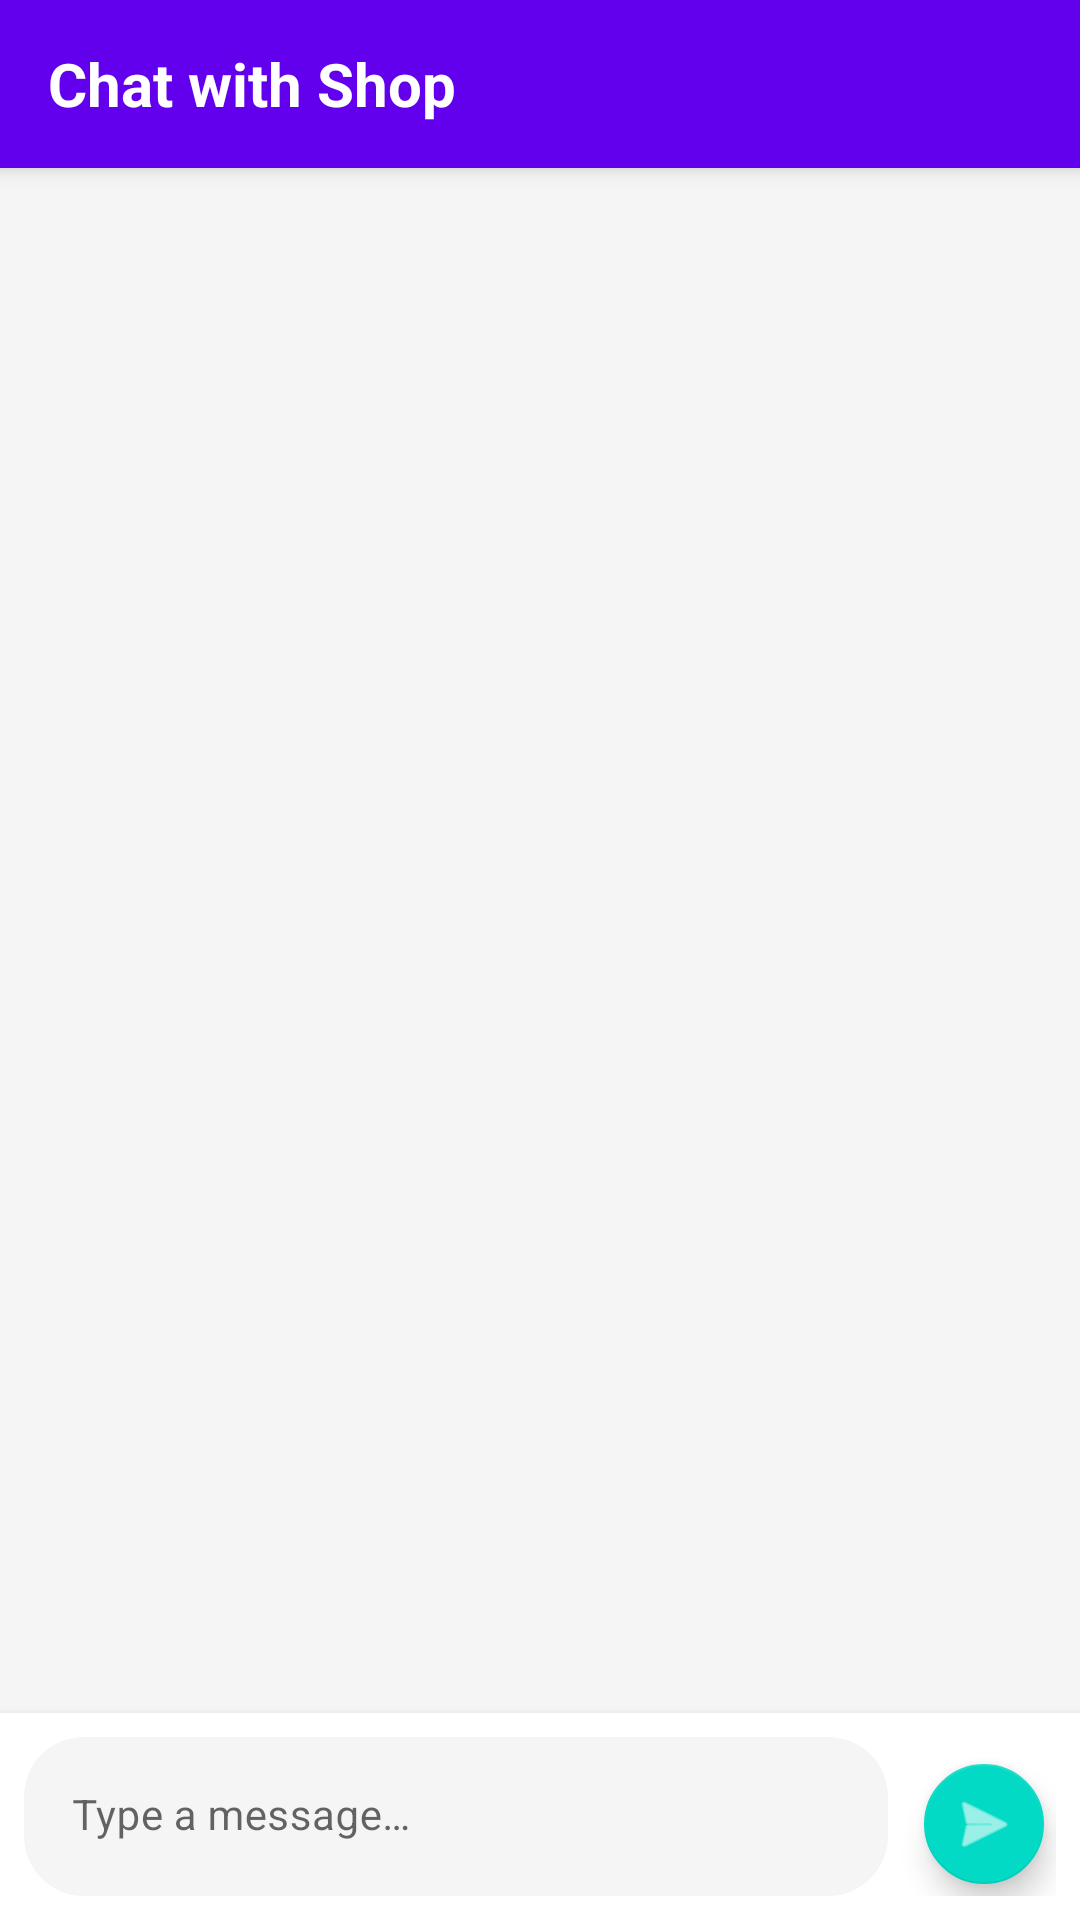

Icon bounding boxes for this 1080*1920 phone screenshot, format {"left": x1, "top": y1, "right": x2, "bottom": y2}:
Send message: {"left": 924, "top": 1764, "right": 1047, "bottom": 1896}
